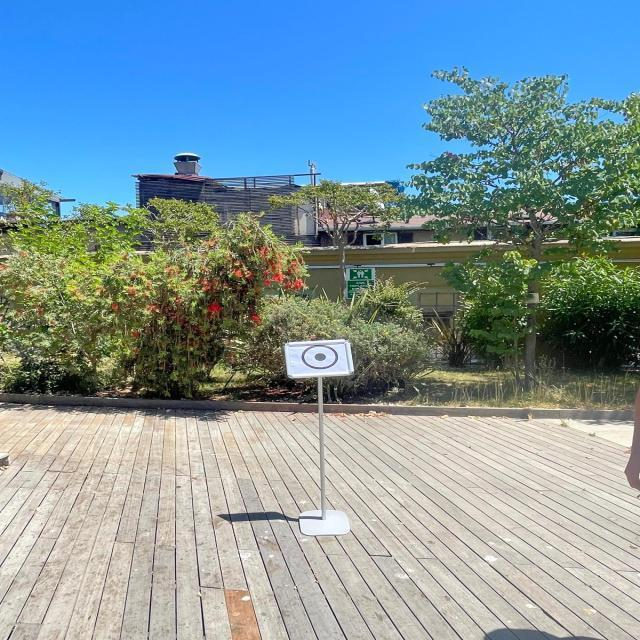Target: (281, 338, 361, 385)
inner: (313, 350, 329, 366)
